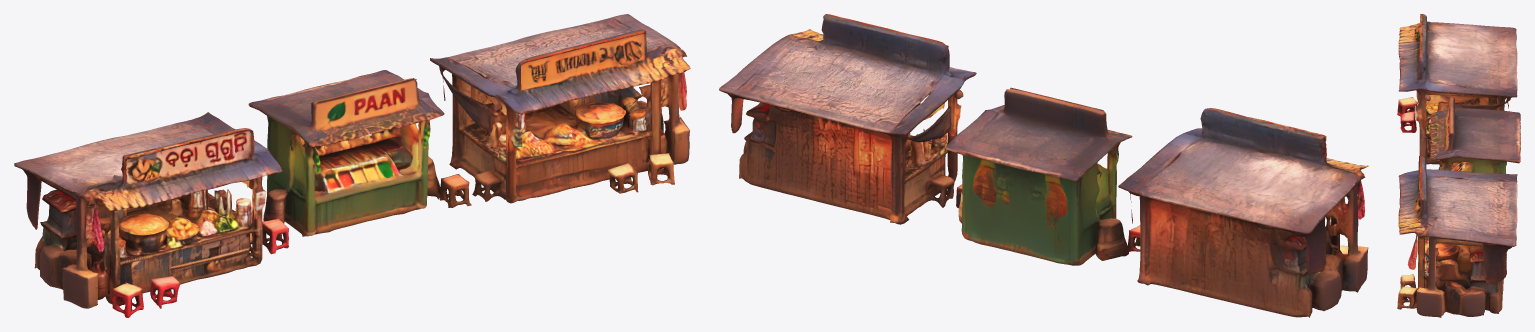
File: three-shops.glb
3 views of the same model, side by side, from view 1: azimuth 30°, elevation 25°; view 2: azimuth 150°, elevation 25°; view 3: azimuth 270°, elevation 25° (orthographic). The views are drawn at different scales.
Visible parts, largest first — view 1: model; view 2: model; view 3: model.
Boxes of the visible parts, x1,y1,x2,y2 form: model: (14,14,690,317); model: (719,14,1368,317); model: (1397,14,1520,317).
Bounding box in the file's own units: 1.9 × 0.4313 × 0.4522.
Materials: 1 (1 with a texture image).
